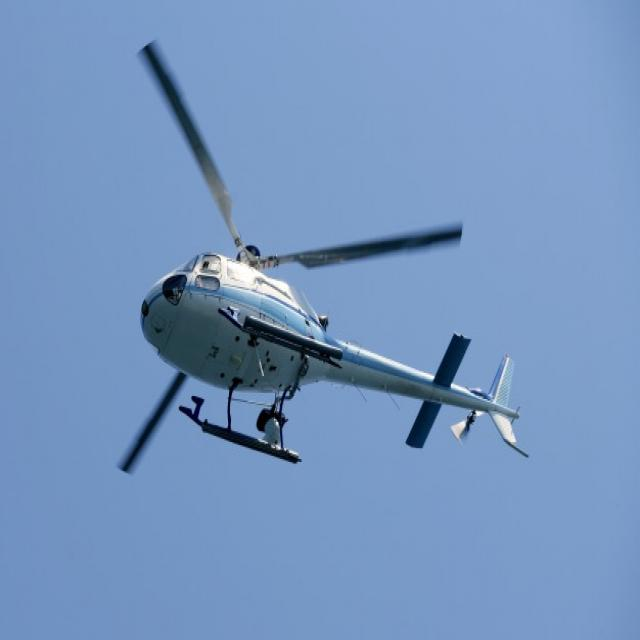helicopter: (112, 41, 533, 466)
